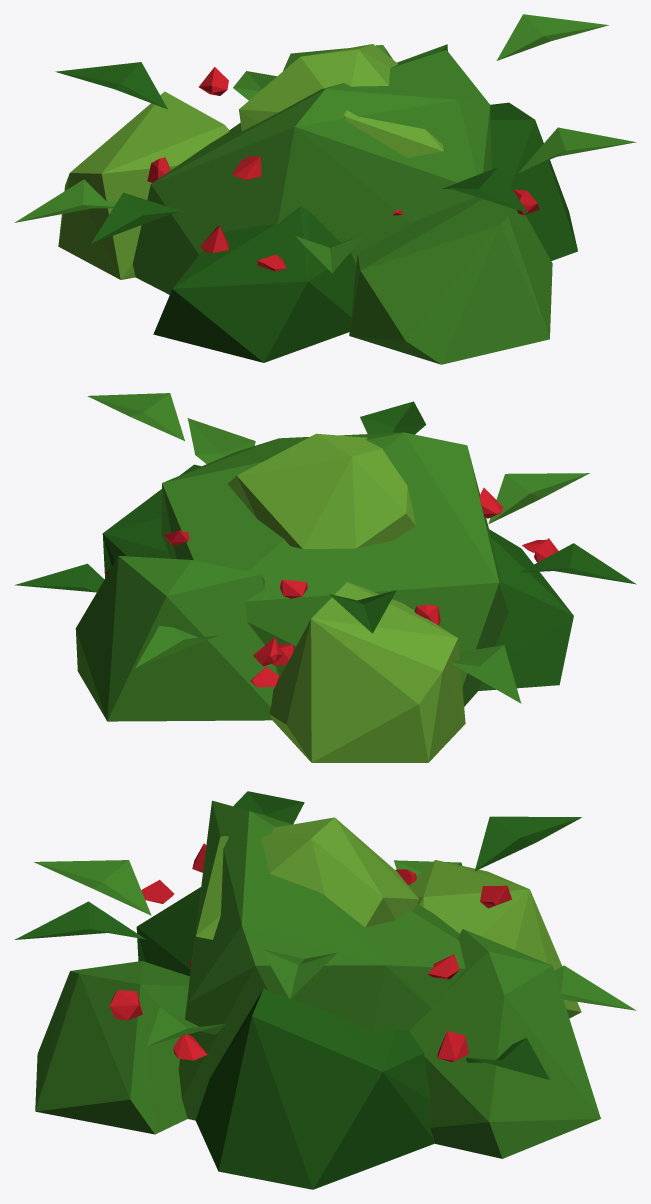
The model's file is bush_berry.glb.
3 views of the same model, one above another, from view 1: azimuth 30°, elevation 25°; view 2: azimuth 150°, elevation 25°; view 3: azimuth 270°, elevation 25° (orthographic). The views are drawn at different scales.
Parts seen in each view (by area): view 1: BushBerry; view 2: BushBerry; view 3: BushBerry.
Part boxes in pixels (x1,y1,x2,y2): BushBerry: (14, 14, 636, 364); BushBerry: (14, 393, 636, 762); BushBerry: (14, 791, 636, 1189).
Bounding box in the file's own units: 1.42 × 0.5426 × 1.29.
